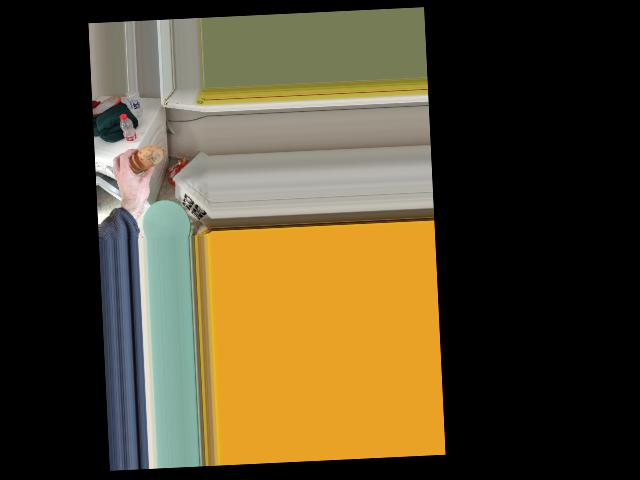sweet_potato: (129, 144, 158, 174)
